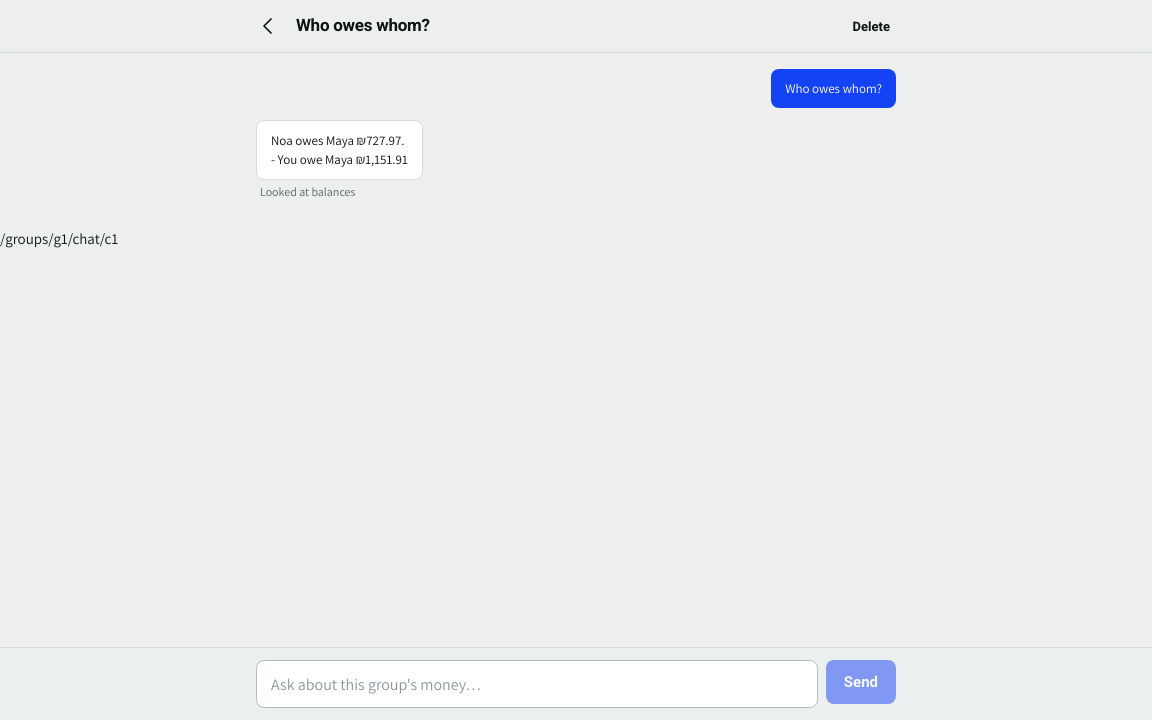
Test case: an existing conversation › can be deleted, after a confirmation
What coordinates should you click on to do the following:
click the button with aria-label "Delete this conversation"
I would click on:
 (871, 26)
Its box is top-left (839, 8), bottom-right (904, 44).
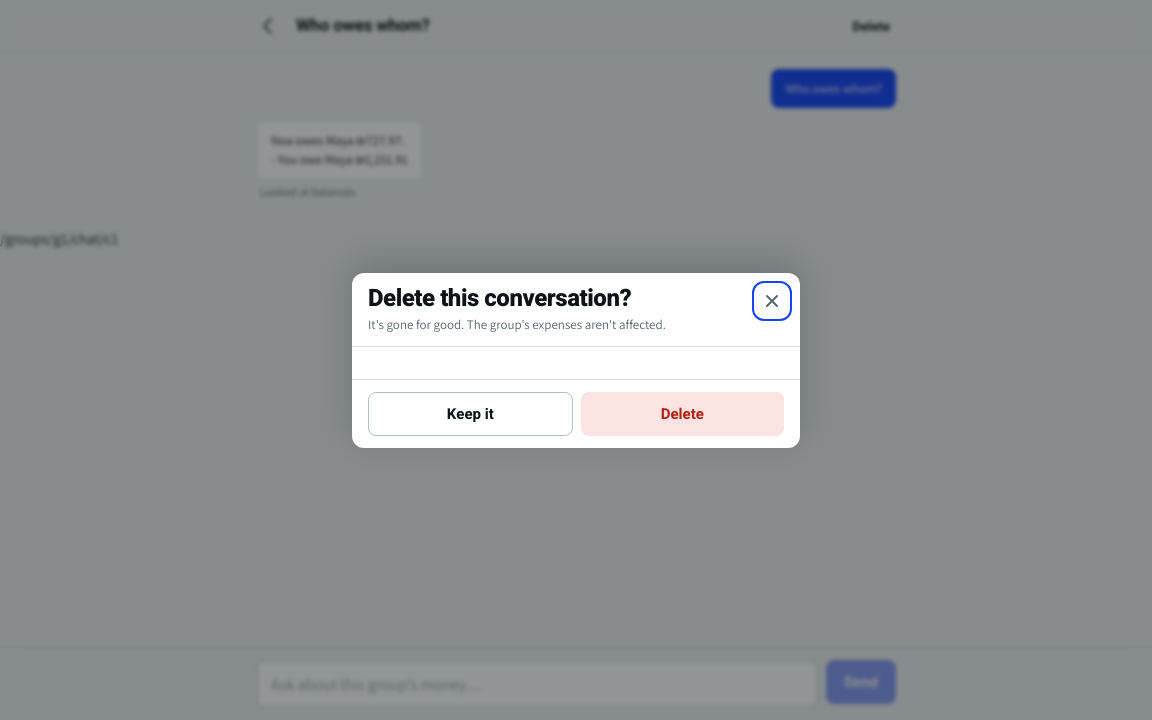
What coordinates should you click on to do the following:
click the button "Delete"
I would click on:
 (682, 414)
Its box is top-left (581, 392), bottom-right (784, 436).
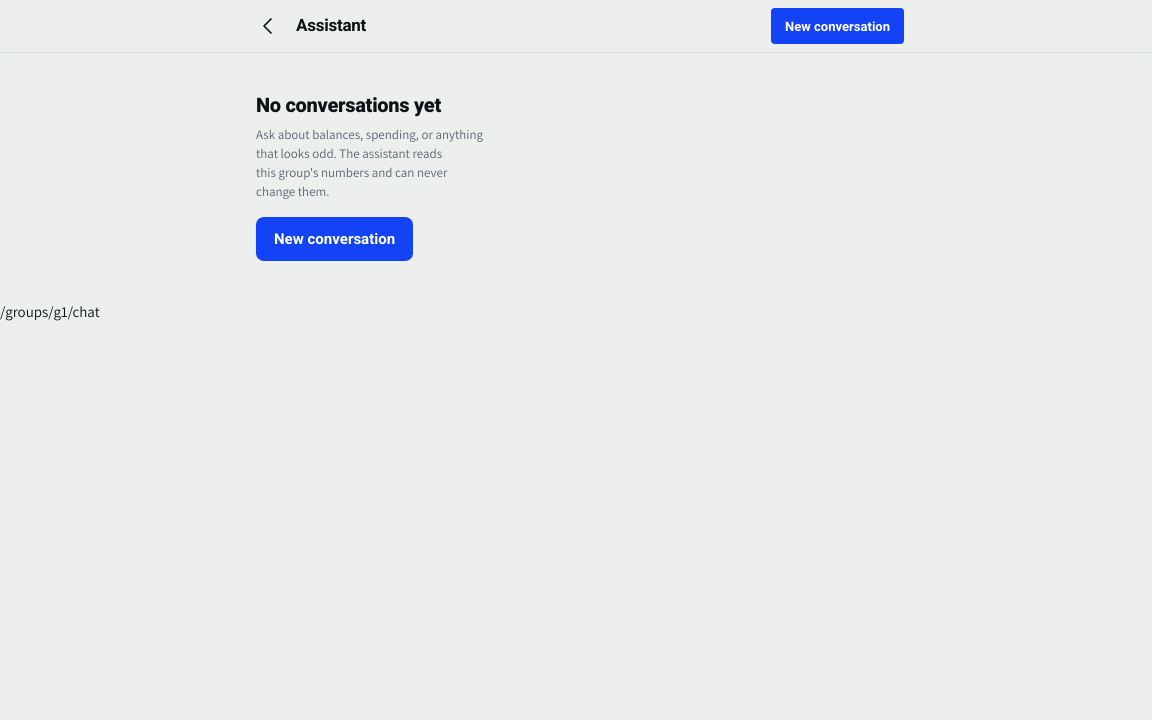
Expected: the text with test id "where" reads "/groups/g1/chat", top-left (0, 302), bottom-right (100, 321)
